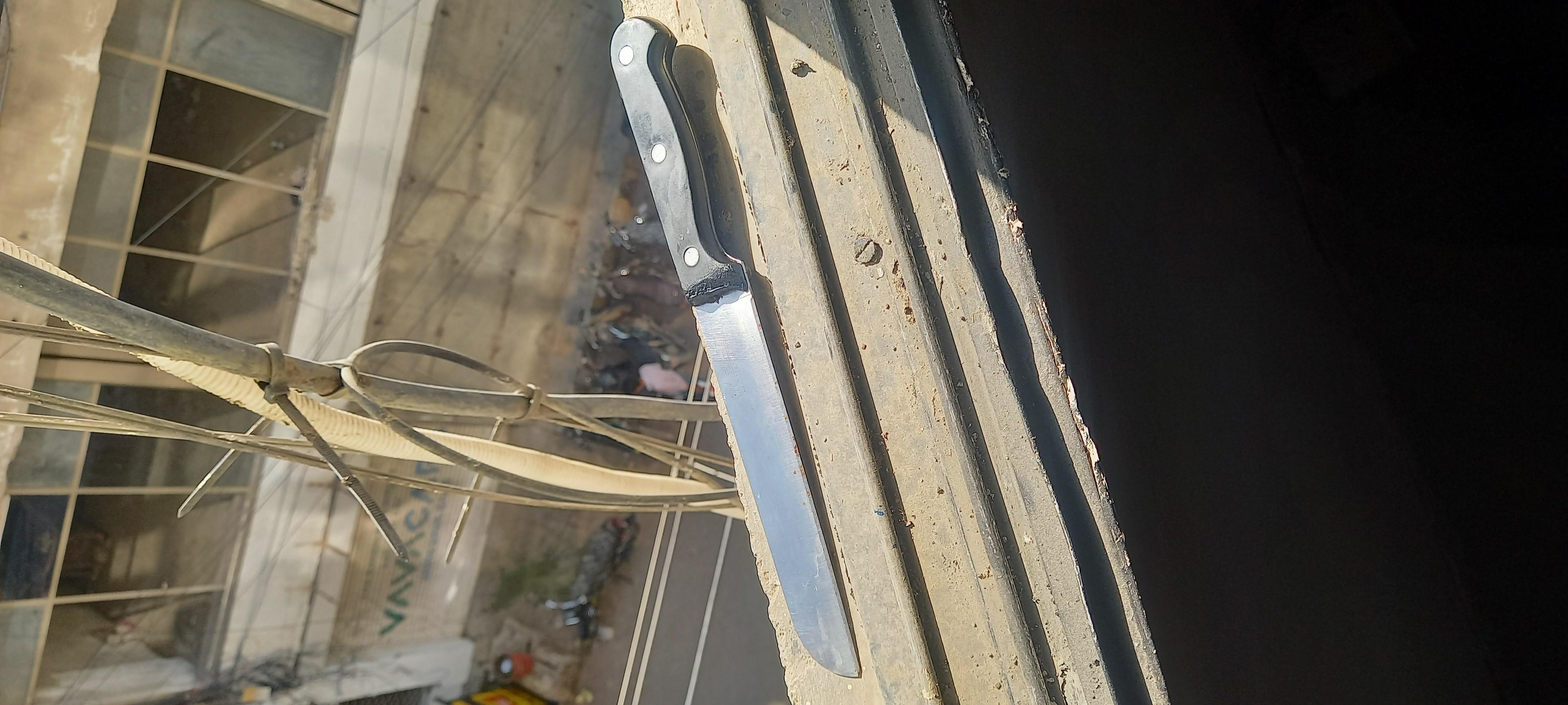knives: (34, 265, 1534, 390)
